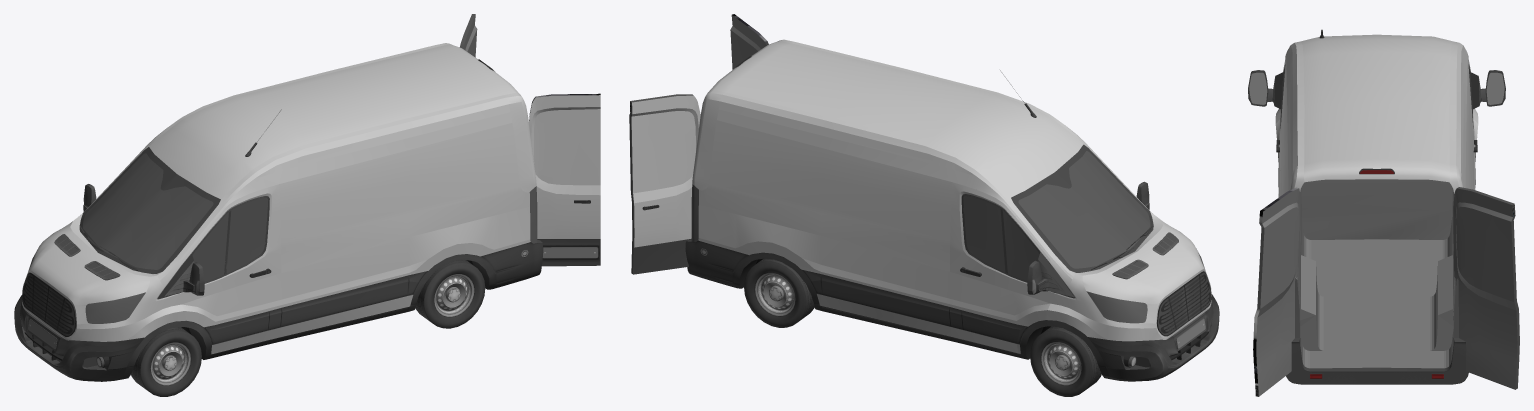
File: truck open.fbx
The picture shows the model from 3 angles, left to right: view 1: azimuth 30°, elevation 25°; view 2: azimuth 150°, elevation 25°; view 3: azimuth 270°, elevation 25°; orthographic projection. The views are drawn at different scales.
Parts seen in each view (by area): view 1: Body, Door_FL, doorbackleft, Wheel_FL, Wheel_BL; view 2: Body, Door_FR, doorbackright, Wheel_FR, Wheel_BR, doorbackleft; view 3: Body, doorbackright, doorbackleft, Door_FL, Door_FR.
Boxes of the visible parts, x1,y1,x2,y2 form: Body: (14, 43, 543, 381); Door_FL: (181, 184, 282, 354); doorbackleft: (529, 93, 600, 266); Wheel_FL: (131, 327, 201, 396); Wheel_BL: (415, 260, 485, 328); Body: (685, 39, 1219, 381); Door_FR: (949, 182, 1050, 353); doorbackright: (629, 94, 700, 274); Wheel_FR: (1030, 326, 1101, 396); Wheel_BR: (744, 258, 814, 327); doorbackleft: (730, 14, 768, 69); Body: (1275, 29, 1478, 384); doorbackright: (1453, 187, 1519, 389); doorbackleft: (1253, 187, 1299, 396); Door_FL: (1248, 52, 1286, 197); Door_FR: (1467, 52, 1505, 189).
Size of the model in its own units: 8.86 by 3.7 by 4.01.
